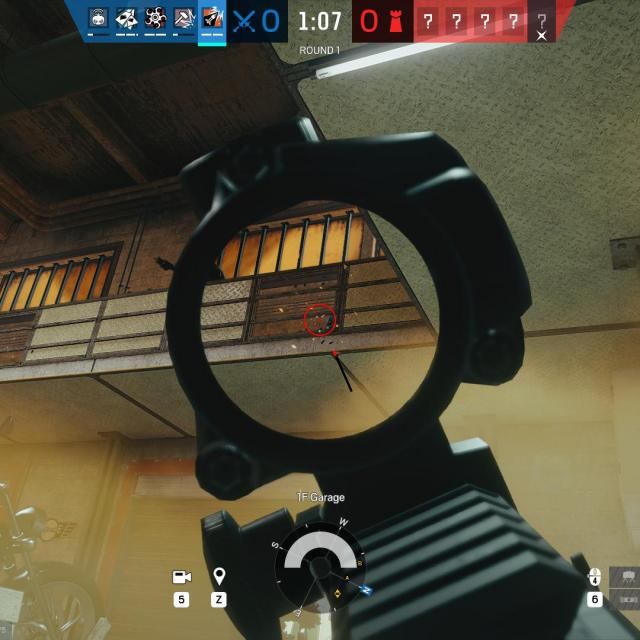Character: (154, 254, 228, 285)
